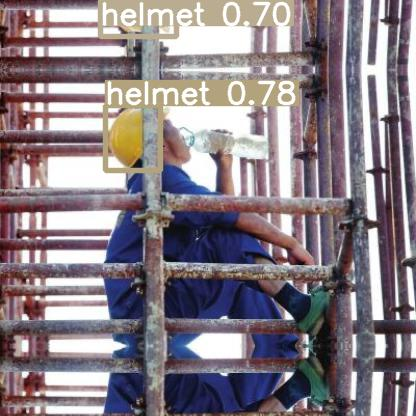helmet: (105, 105, 160, 170), (100, 0, 176, 36)
